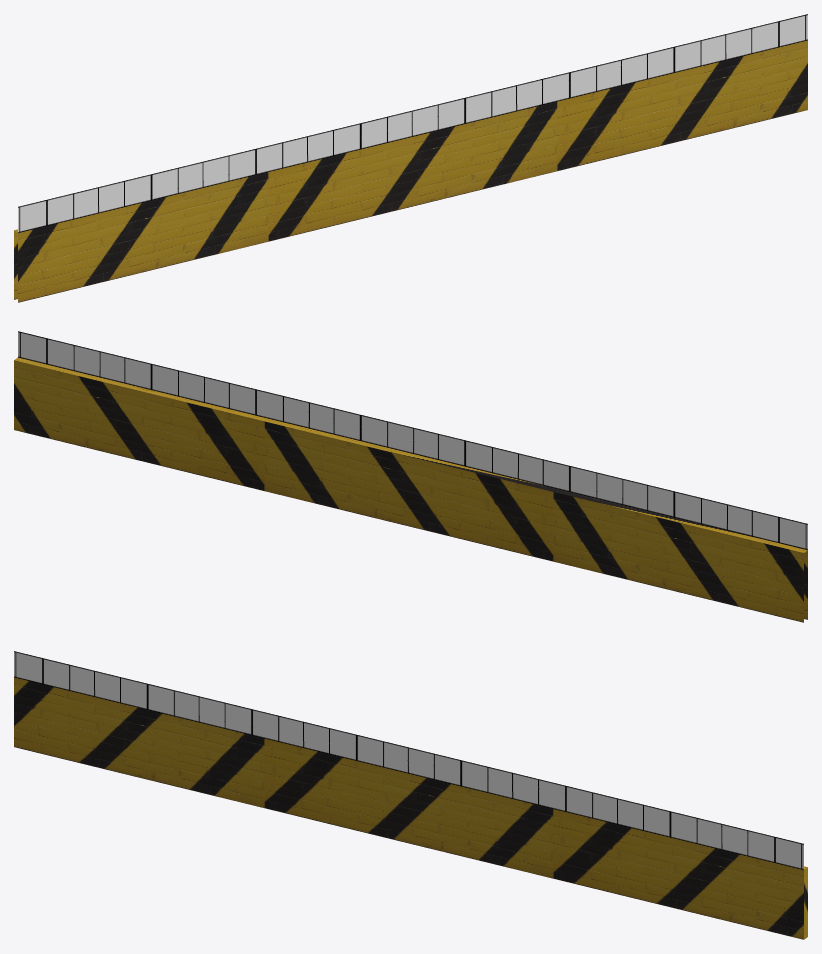
Rendered from Wall1.fbx.
3 views of the same model, one above another, from view 1: azimuth 30°, elevation 25°; view 2: azimuth 150°, elevation 25°; view 3: azimuth 330°, elevation 25° (orthographic).
Parts seen in each view (by area): view 1: pCube11; view 2: pCube11; view 3: pCube11.
Boxes of the visible parts, bbox=[...] form: pCube11: bbox=[14, 14, 807, 302]; pCube11: bbox=[14, 331, 807, 622]; pCube11: bbox=[14, 651, 807, 939].
Size of the model in its own units: 0.2658 by 0.0309 by 0.00229.
